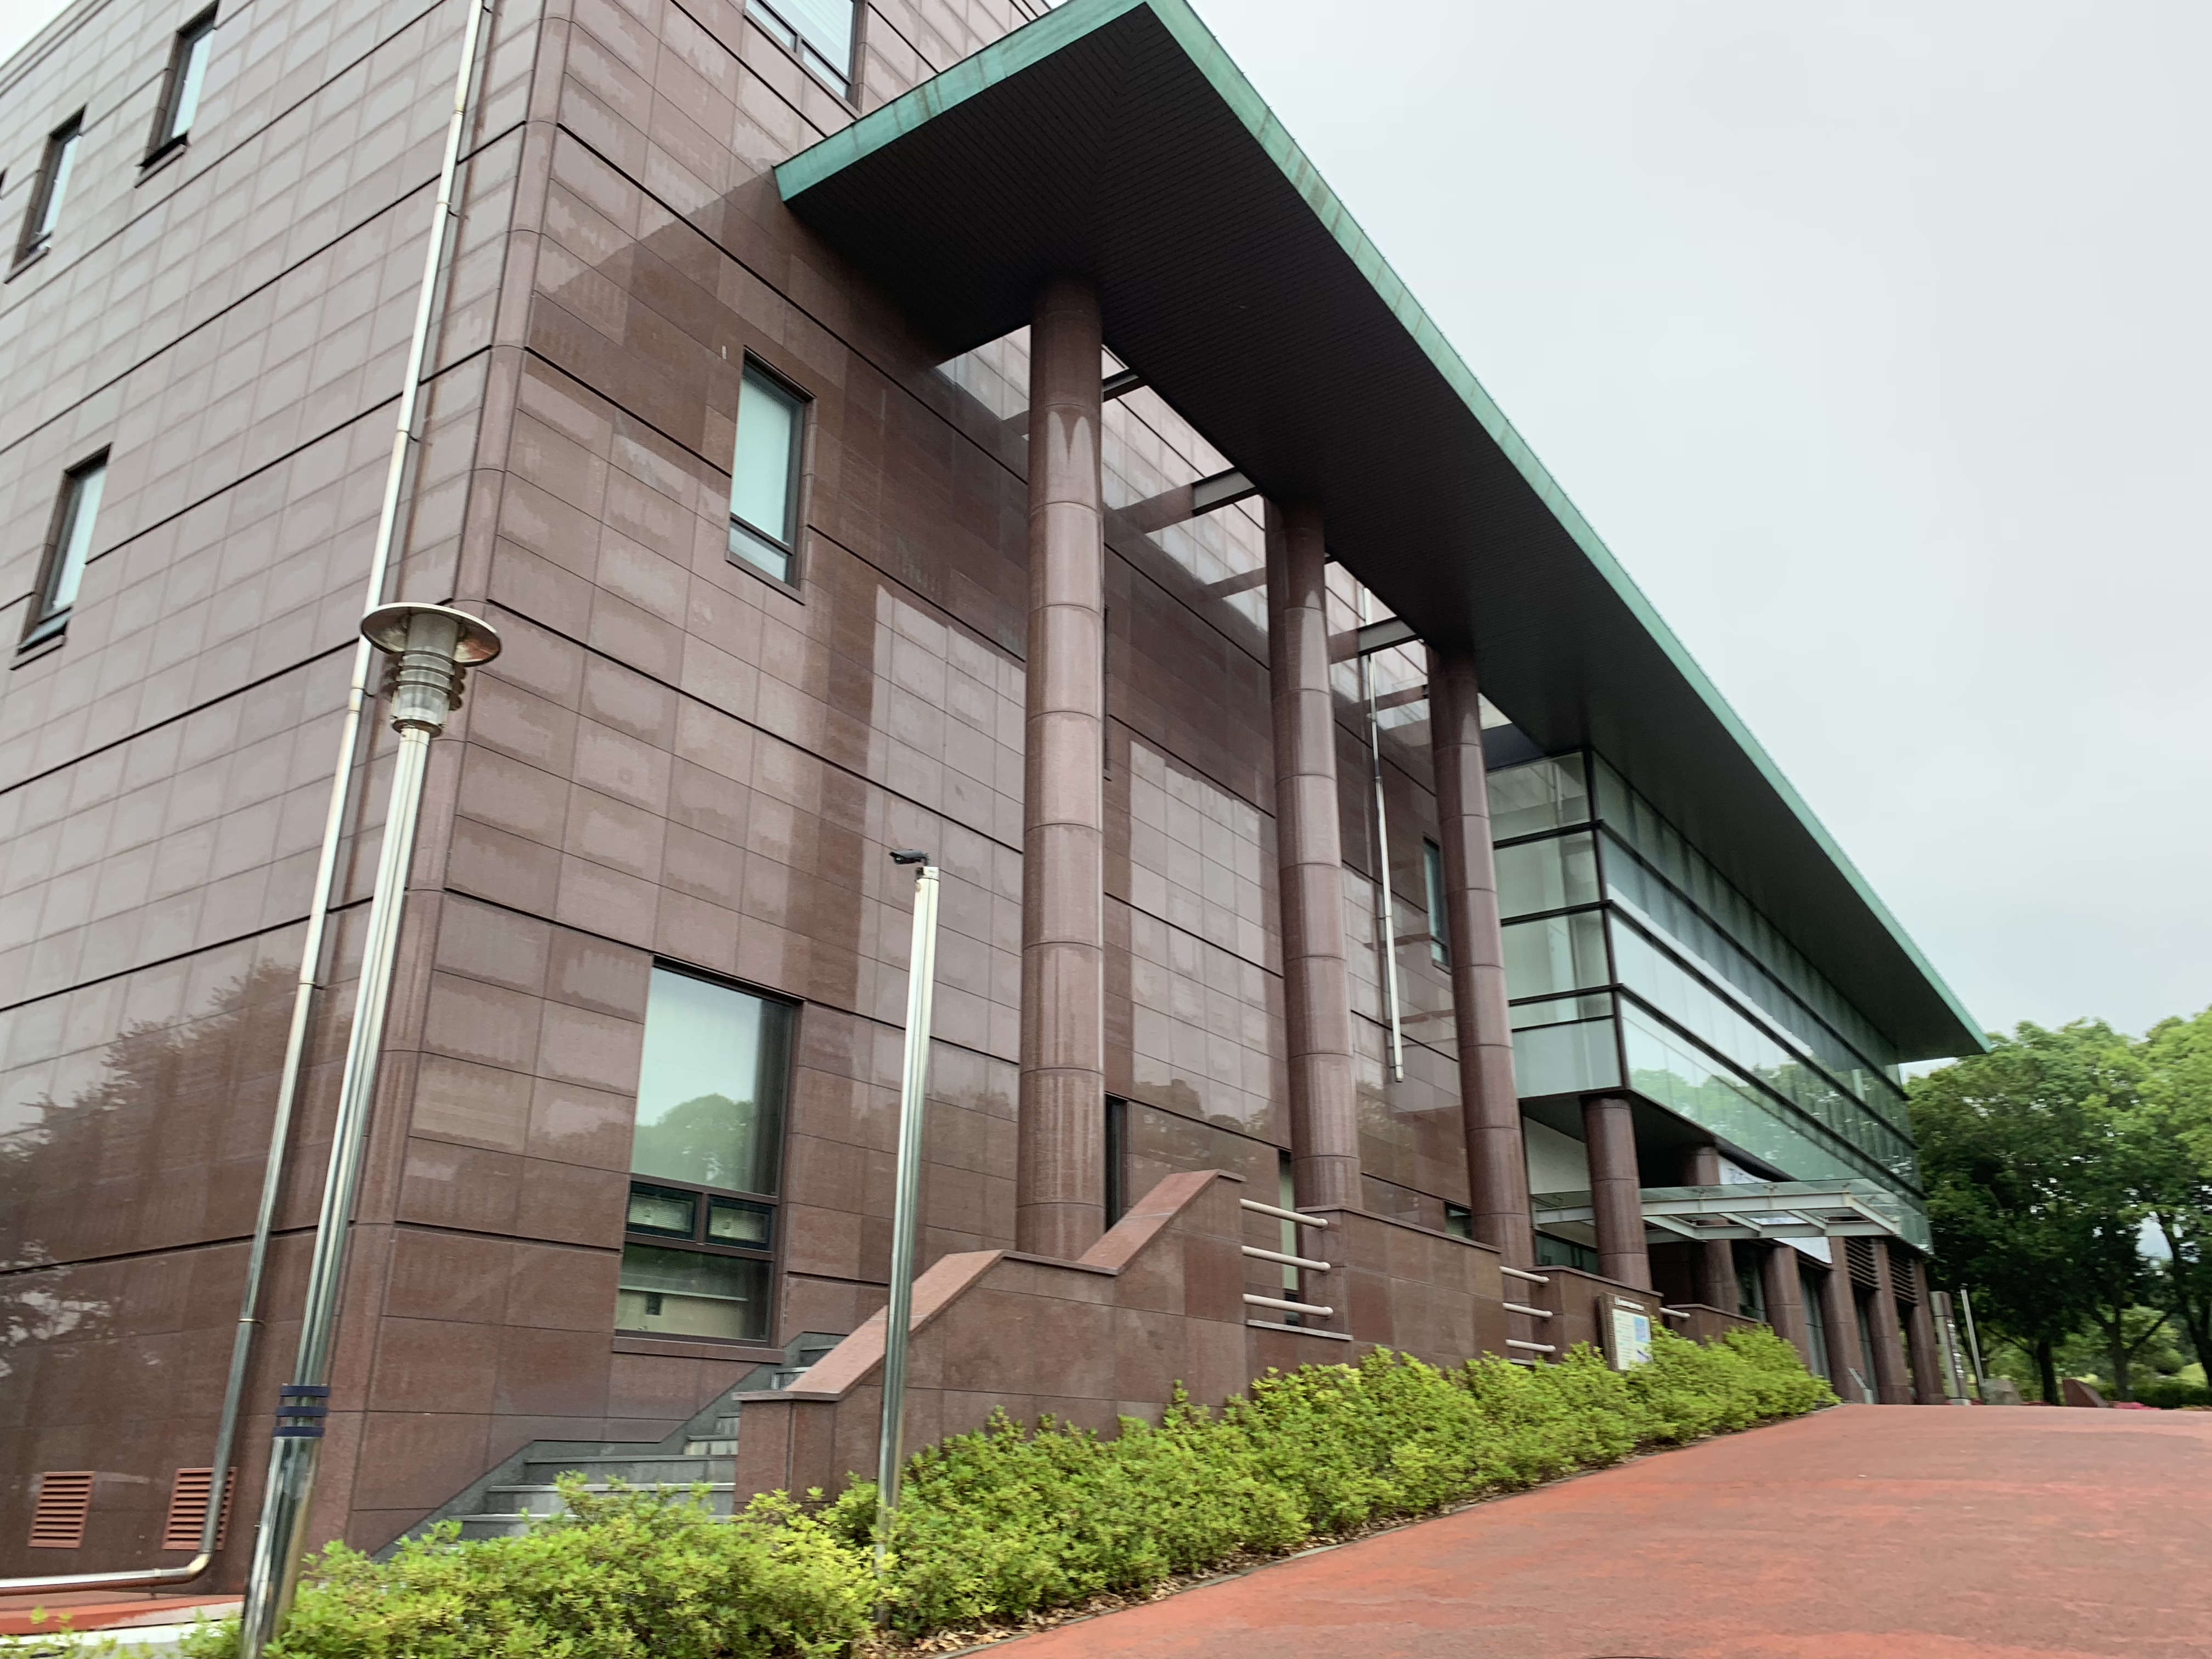Museum: (491, 150, 2036, 1507)
